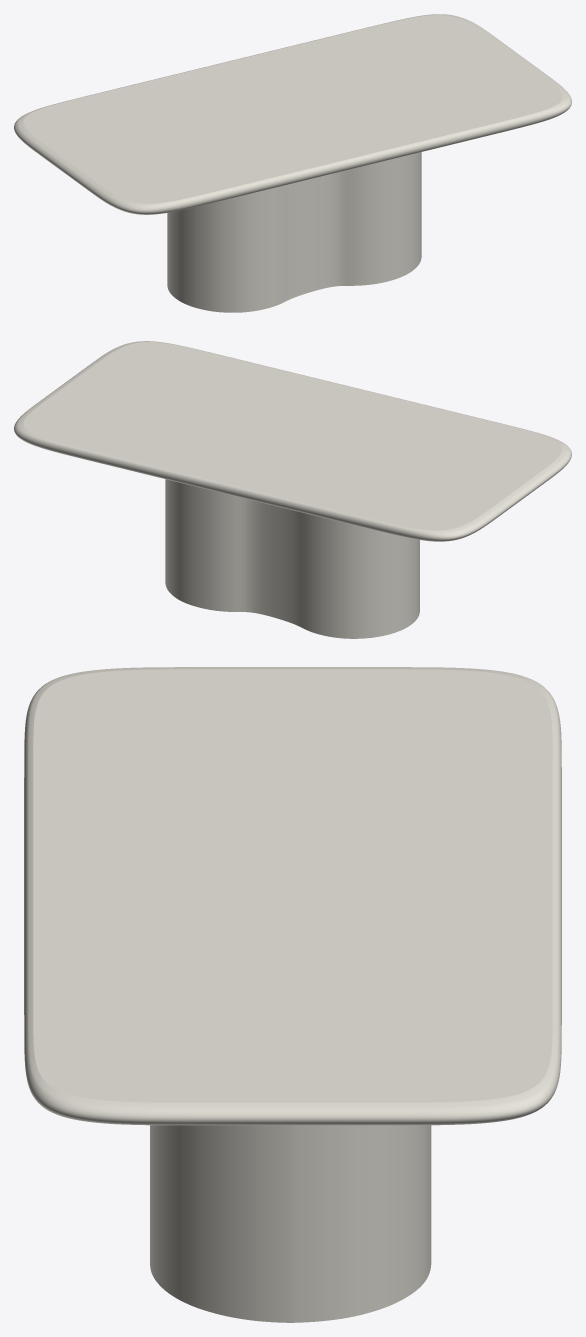
Rendered from pale_softrecta_round_riverwave.glb.
3 renders of one model, top to bottom at view 1: azimuth 30°, elevation 25°; view 2: azimuth 150°, elevation 25°; view 3: azimuth 270°, elevation 25°, orthographic. The views are drawn at different scales.
Visible parts, largest first — view 1: round_softrecta, riverwave; view 2: round_softrecta, riverwave; view 3: round_softrecta, riverwave.
Boxes of the visible parts, x1,y1,x2,y2 form: round_softrecta: [14, 14, 571, 214]; riverwave: [167, 152, 421, 312]; round_softrecta: [14, 341, 571, 541]; riverwave: [165, 479, 419, 638]; round_softrecta: [24, 667, 561, 1125]; riverwave: [150, 1125, 431, 1322].
Bounding box in the file's own units: 7.5 × 2.5 × 3.8.
1 material, 1 textured.
